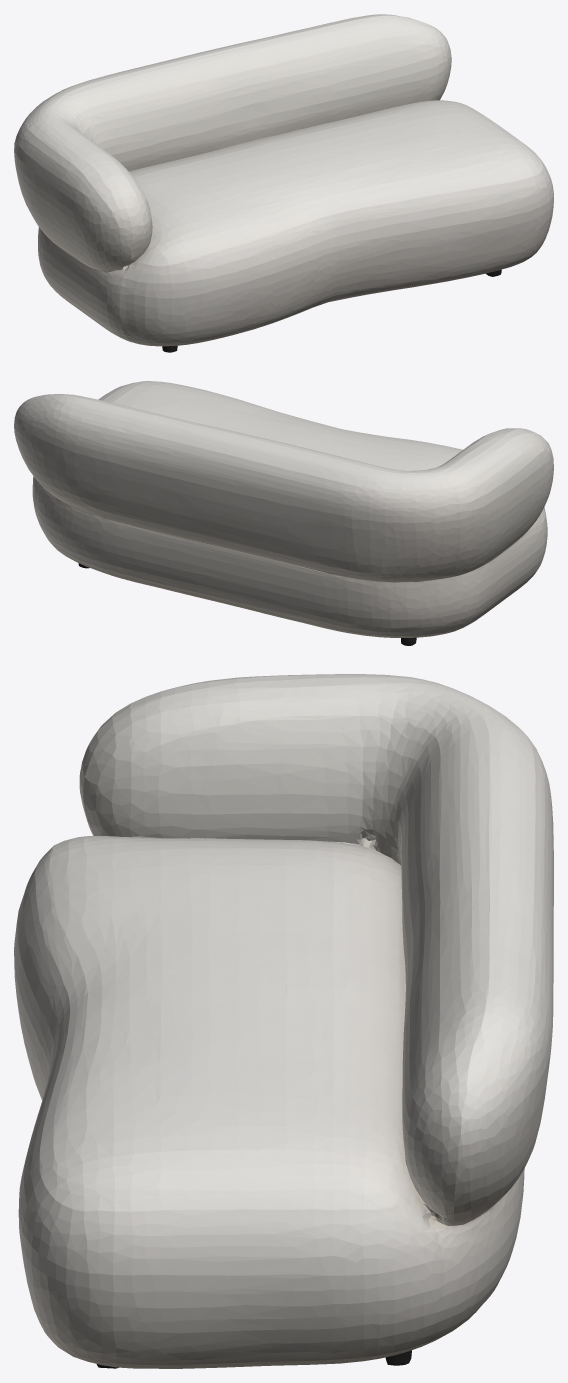
The picture shows the model from 3 angles, top to bottom: view 1: azimuth 30°, elevation 25°; view 2: azimuth 150°, elevation 25°; view 3: azimuth 270°, elevation 25°; orthographic projection. The views are drawn at different scales.
Visible parts, largest first — view 1: geometry_0; view 2: geometry_0; view 3: geometry_0.
Part boxes in pixels (bbox=[...]): geometry_0: bbox=[14, 14, 553, 352]; geometry_0: bbox=[14, 381, 553, 645]; geometry_0: bbox=[14, 674, 553, 1368].
Bounding box in the file's own units: 0.9991 × 0.3958 × 0.5459.
Materials: 1 (1 with a texture image).
